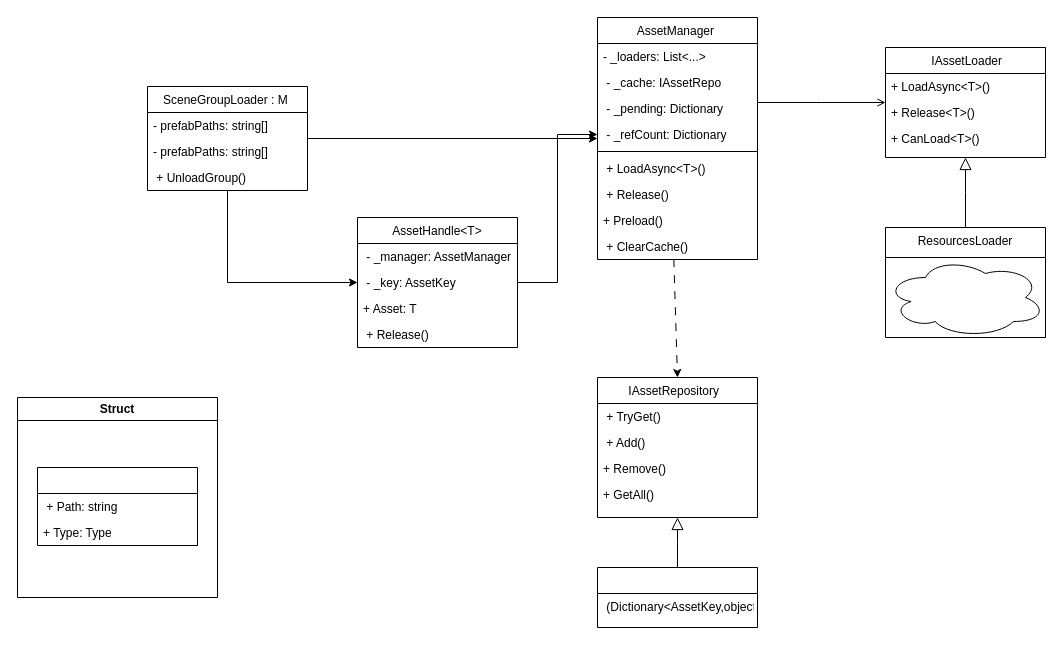
The diagram is 1063 pixels wide and 645 high, and some of its shapes have lost their labels. Each missing label, with the box of its shape:
AssetKey: (36, 466, 198, 546)
AssetRepository: (596, 566, 758, 628)
Имплементация IAssetLoader: (884, 256, 1046, 338)
